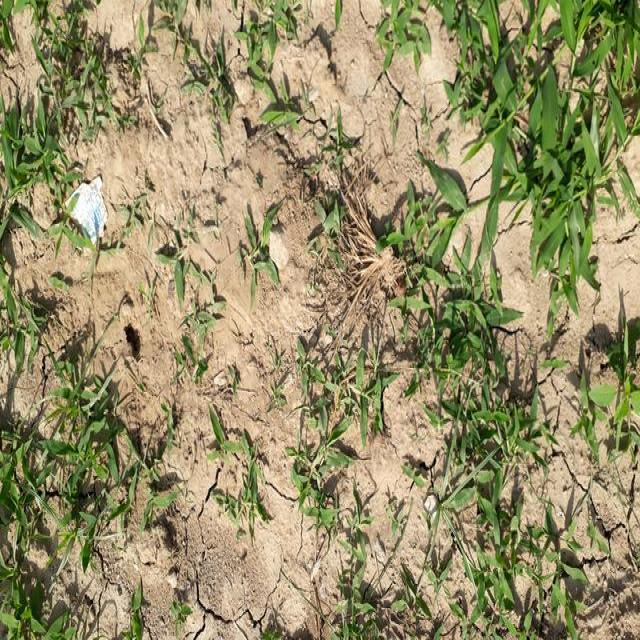weed: (382, 1, 640, 297), (411, 315, 574, 640), (5, 271, 132, 640), (0, 0, 69, 244)
